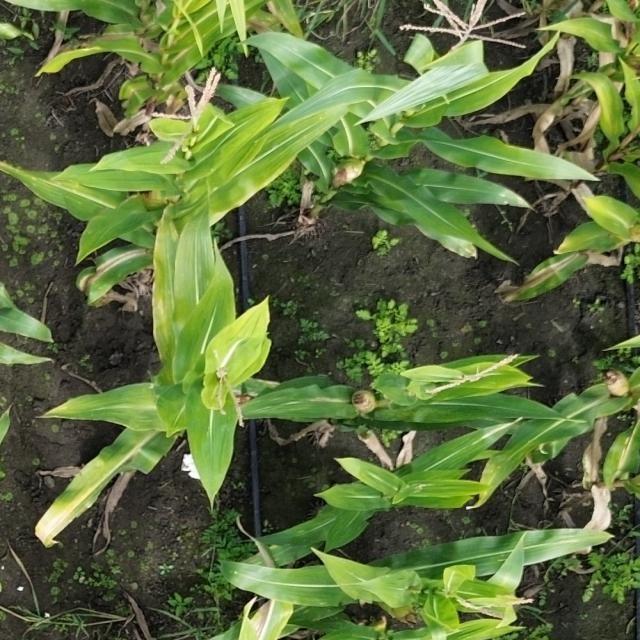gray-leaf-spot: (245, 381, 321, 437)
northern-leaf-blight: (136, 222, 198, 366)
southern-leaf-blight: (236, 517, 333, 567), (16, 169, 104, 222), (457, 436, 527, 498)
